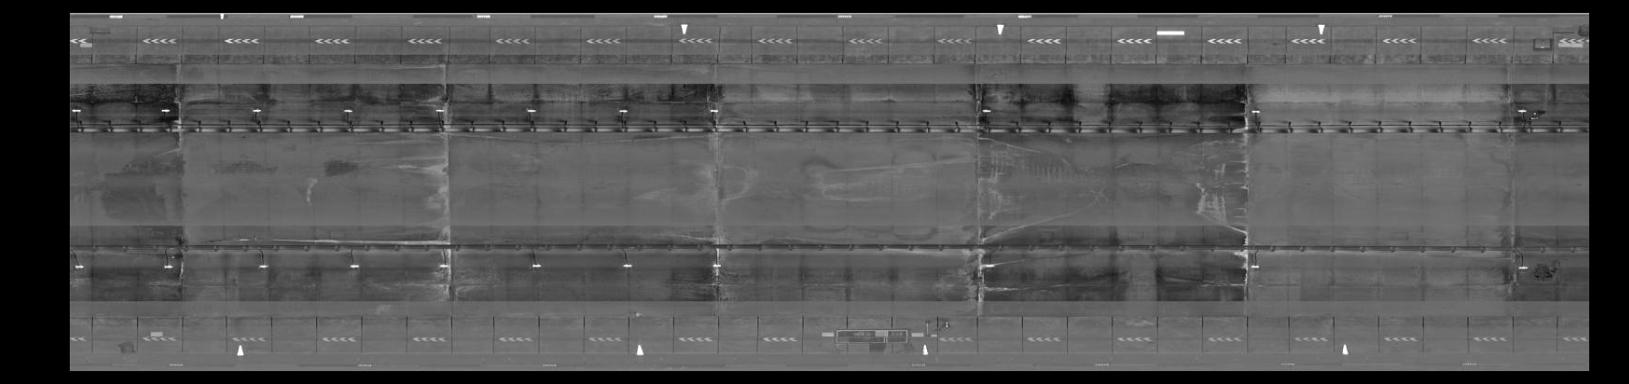light: (1245, 260, 1266, 272), (255, 260, 274, 273), (613, 103, 630, 116), (248, 105, 269, 115), (704, 260, 727, 270), (160, 262, 180, 272), (430, 106, 450, 116), (981, 260, 1003, 270), (618, 260, 636, 272), (1515, 263, 1532, 274), (435, 260, 454, 271), (157, 106, 175, 116), (1246, 107, 1263, 117), (1513, 105, 1530, 115), (73, 260, 88, 272), (340, 106, 358, 115), (981, 105, 995, 116), (523, 106, 540, 115), (527, 260, 544, 270), (705, 106, 723, 115), (345, 262, 363, 270), (70, 105, 83, 115)
